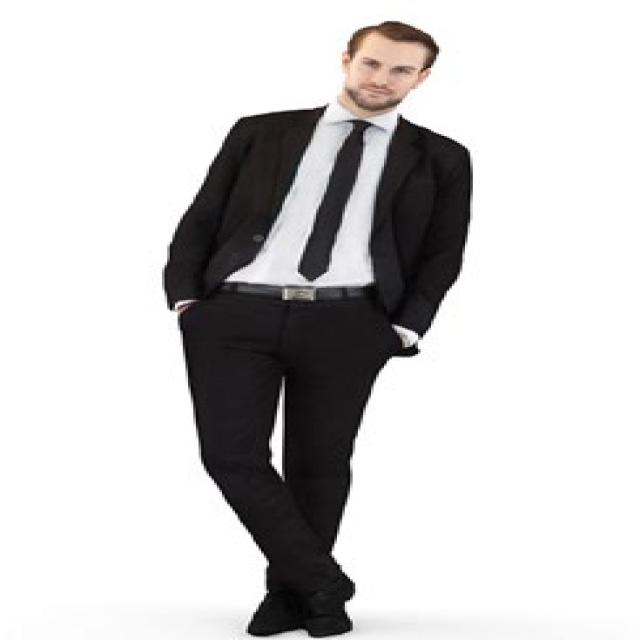standing: (161, 18, 477, 637)
